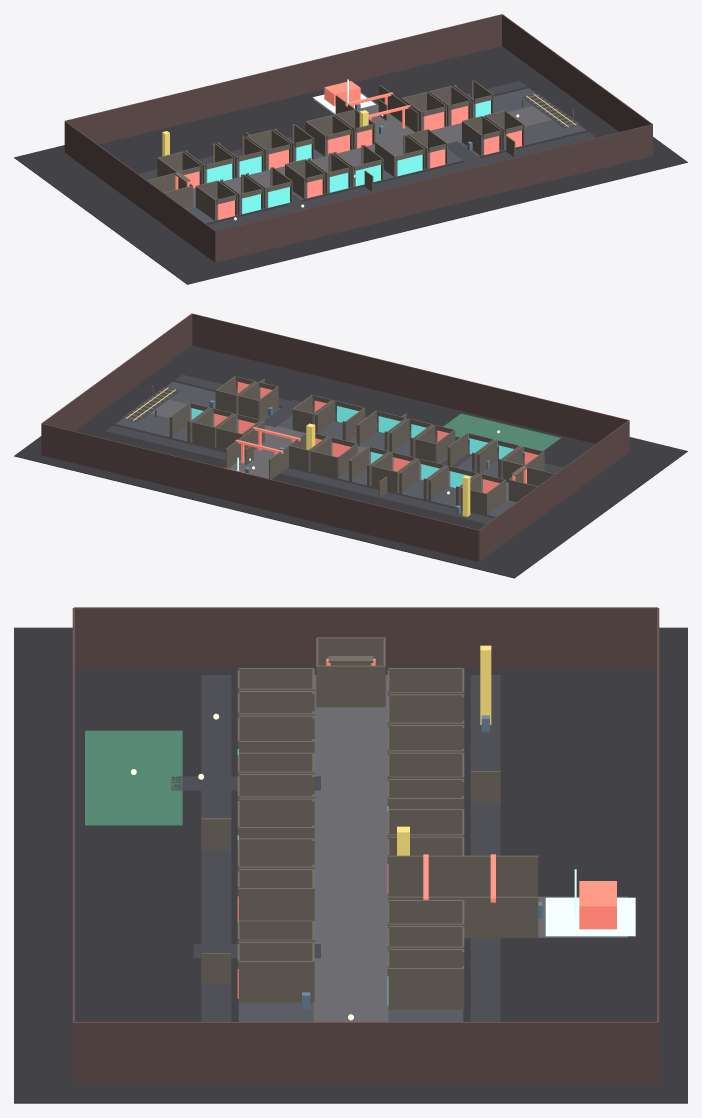
File: prop_level_yata2.glb
3 views of the same model, one above another, from view 1: azimuth 30°, elevation 25°; view 2: azimuth 150°, elevation 25°; view 3: azimuth 270°, elevation 25° (orthographic). The views are drawn at different scales.
Parts seen in each view (by area): view 1: level_yata2; view 2: level_yata2; view 3: level_yata2.
Boxes of the visible parts, x1,y1,x2,y2 form: level_yata2: (14, 14, 687, 284); level_yata2: (14, 313, 687, 578); level_yata2: (14, 607, 687, 1103).
Bounding box in the file's own units: 300 × 22.3 × 180.
